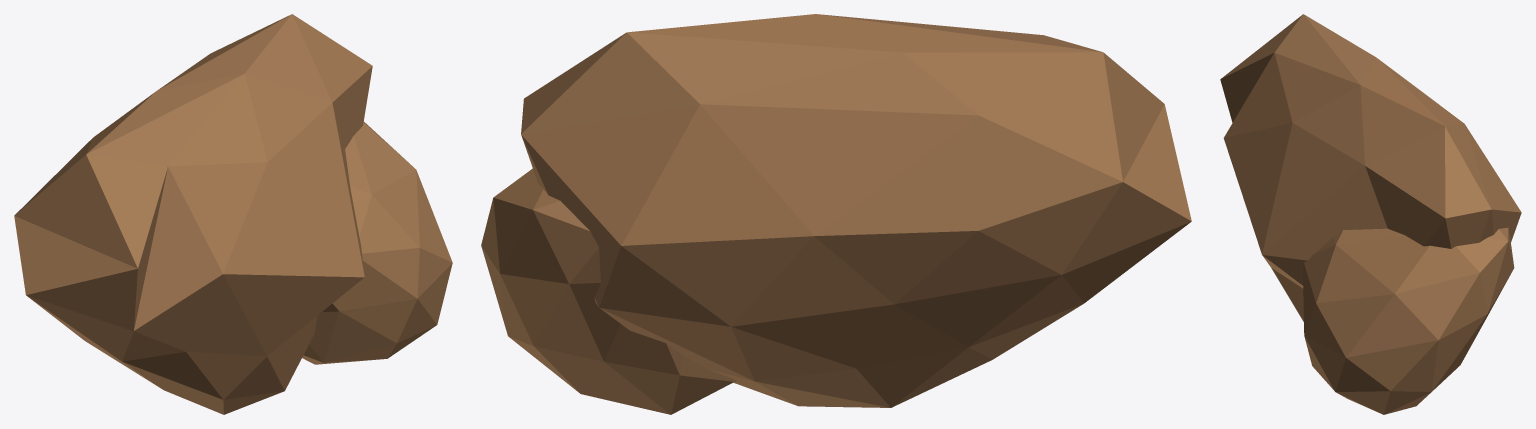
Rendered from Brown_rock2.fbx.
The picture shows the model from 3 angles, left to right: view 1: azimuth 30°, elevation 25°; view 2: azimuth 150°, elevation 25°; view 3: azimuth 270°, elevation 25°; orthographic projection. The views are drawn at different scales.
Parts seen in each view (by area): view 1: BrownRock2; view 2: BrownRock2; view 3: BrownRock2.
Boxes of the visible parts, left/top/right/bottom form: BrownRock2: left=14, top=14, right=452, bottom=414; BrownRock2: left=481, top=14, right=1191, bottom=414; BrownRock2: left=1220, top=14, right=1521, bottom=414.
Size of the model in its own units: 1458 by 961 by 965.
